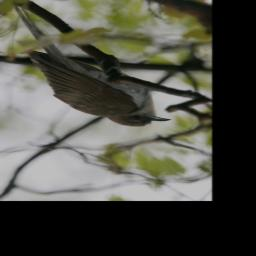Cuckoo: (12, 2, 170, 127)
